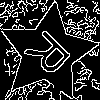R: (23, 28, 80, 86)
